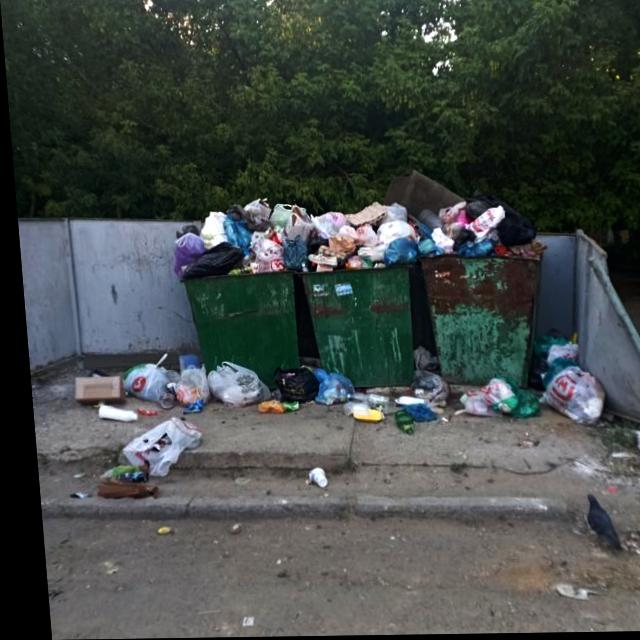Trash_Can_Full: (168, 198, 303, 390), (413, 195, 541, 390), (292, 204, 414, 391)
